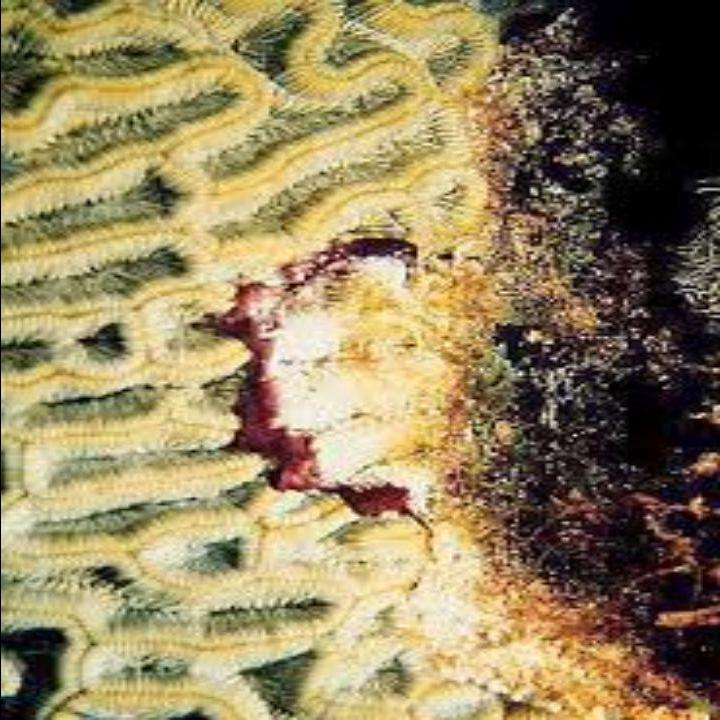Band disease: (159, 270, 431, 596)
